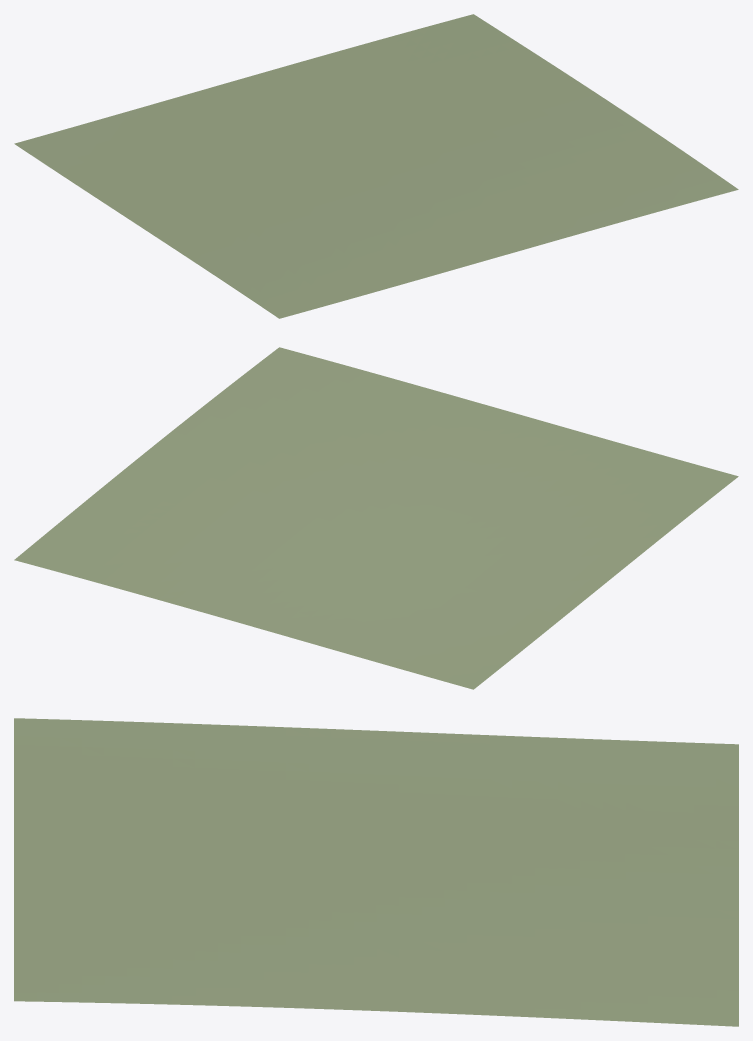
Rendered from expanse-25-0.glb.
The picture shows the model from 3 angles, top to bottom: view 1: azimuth 30°, elevation 25°; view 2: azimuth 150°, elevation 25°; view 3: azimuth 270°, elevation 25°; orthographic projection. The views are drawn at different scales.
Visible parts, largest first — view 1: expanse-25-0; view 2: expanse-25-0; view 3: expanse-25-0.
Part boxes in pixels (x1,y1,x2,y2): expanse-25-0: (14, 14, 738, 318); expanse-25-0: (14, 347, 738, 689); expanse-25-0: (14, 718, 738, 1026).
Size of the model in its own units: 256 by 19.25 by 256.
